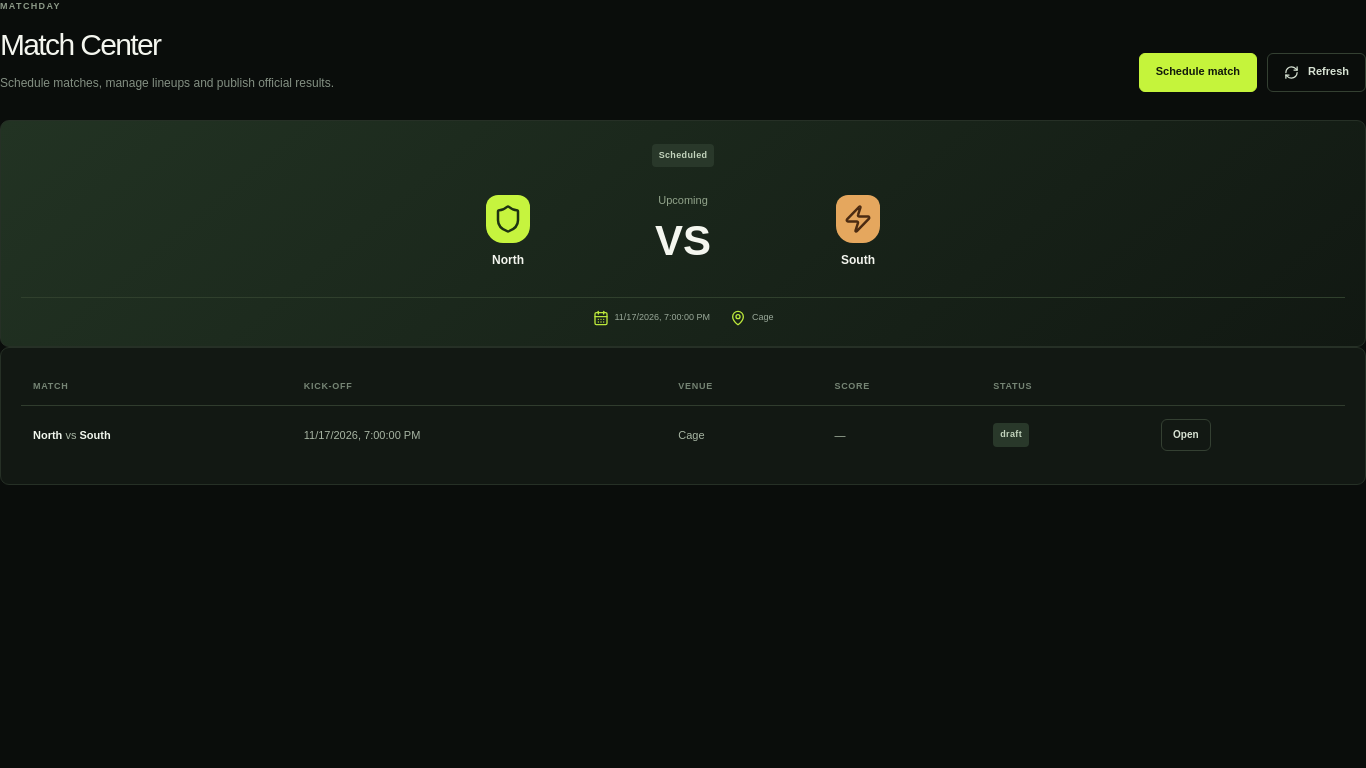
it: Live fixtures and scheduling › shows clear validation when the active match is missing either team ID and makes no mutation
Click the button "Open": click(1186, 435) [1161,419,1211,451]
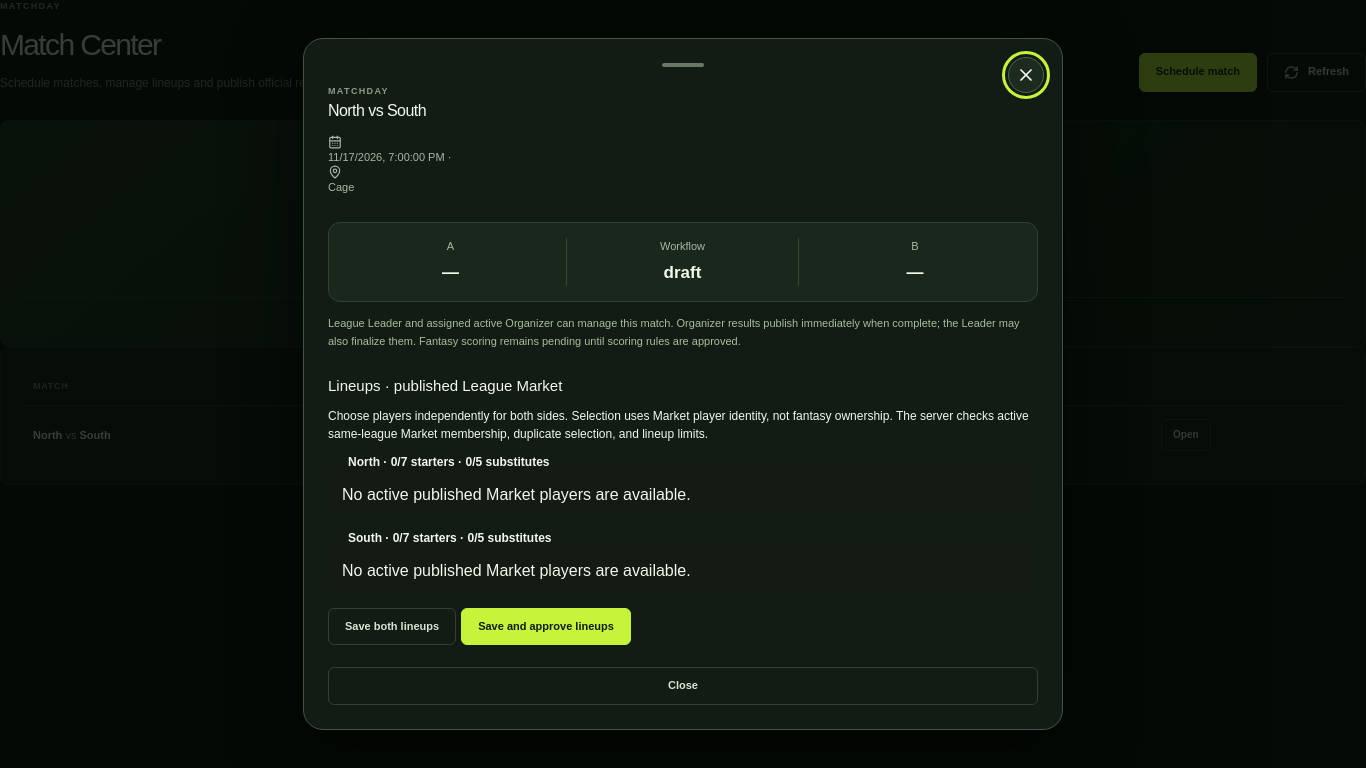
Click the button "Save and approve lineups": click(546, 626) [461,608,631,645]
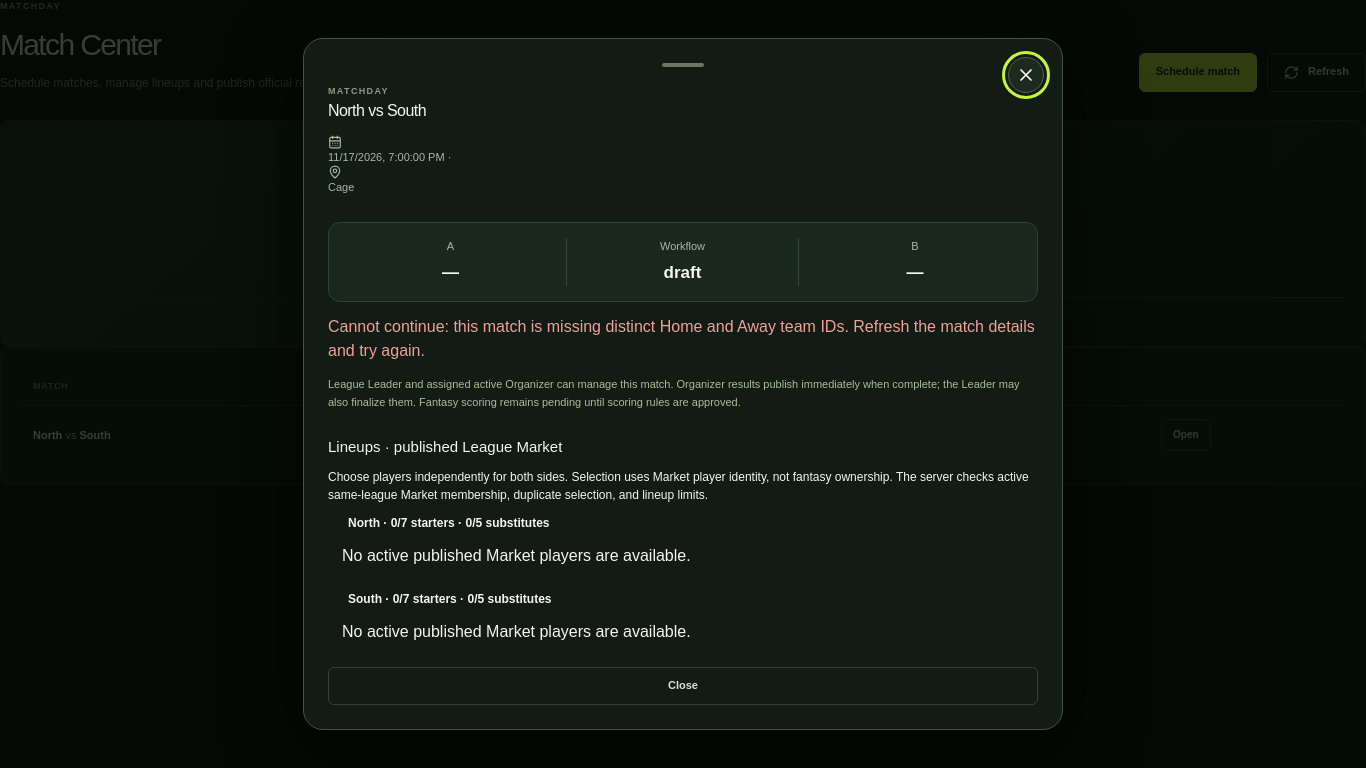
Now the message shows "missing distinct Home and Away team IDs", box [328,318,1035,359]
